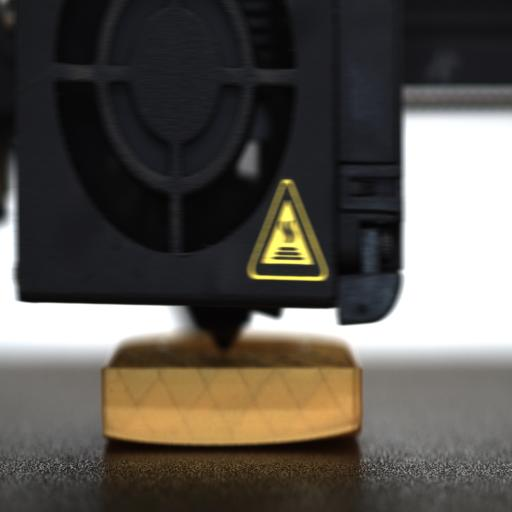warp: (102, 417, 352, 449)
